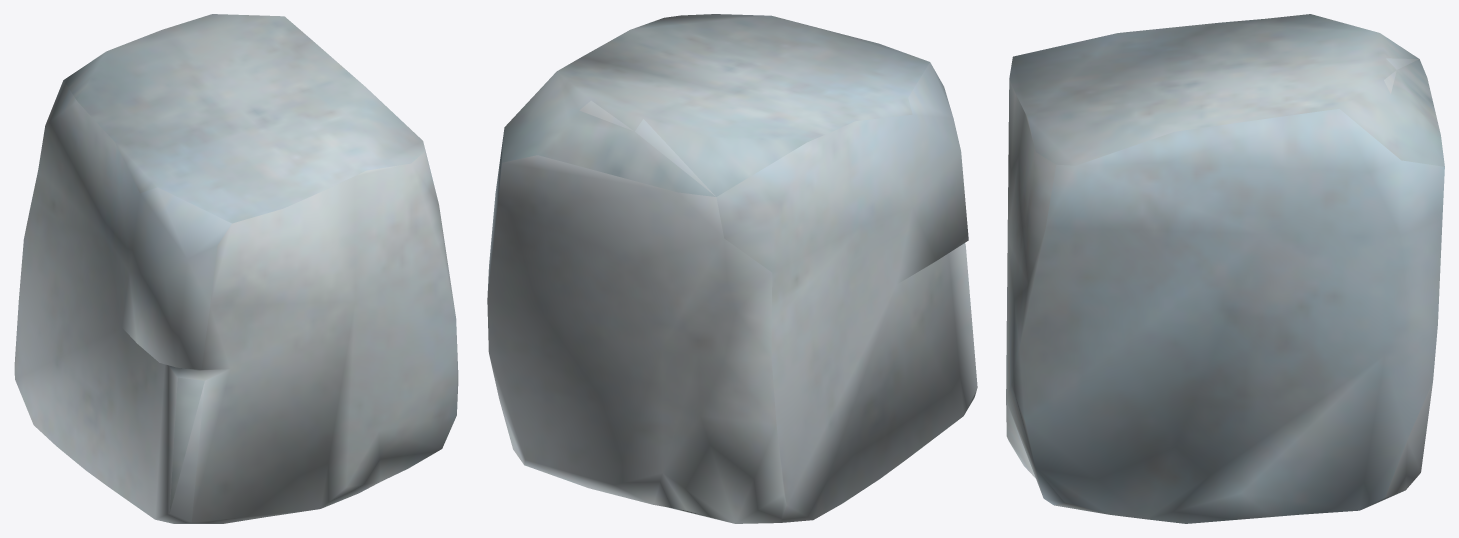
The model's file is P_BoulderCubic03.obj.
3 views of the same model, side by side, from view 1: azimuth 30°, elevation 25°; view 2: azimuth 150°, elevation 25°; view 3: azimuth 270°, elevation 25° (orthographic). The views are drawn at different scales.
Bounding box in the file's own units: 5.72 × 6.58 × 6.63.
